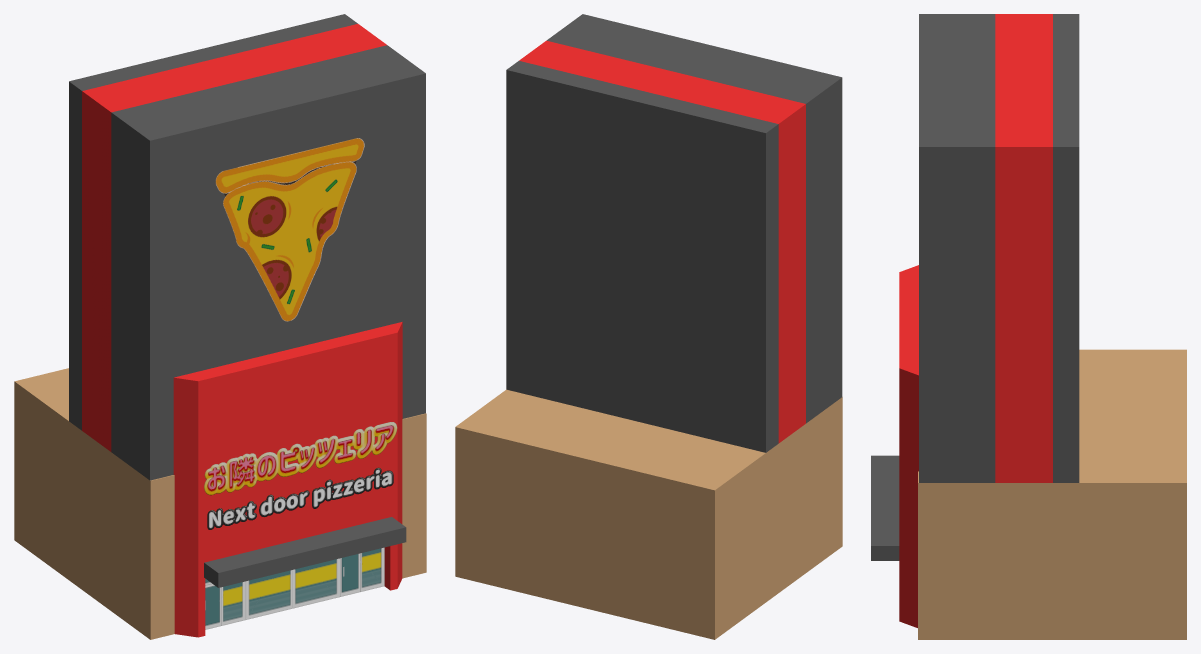
The model's file is Town_Bld_Pizzeria_C.FBX.
3 renders of one model, left to right at view 1: azimuth 30°, elevation 25°; view 2: azimuth 150°, elevation 25°; view 3: azimuth 270°, elevation 25°, orthographic. The views are drawn at different scales.
Parts seen in each view (by area): view 1: Town_Bld_Pizzeria_C; view 2: Town_Bld_Pizzeria_C; view 3: Town_Bld_Pizzeria_C.
Boxes of the visible parts, bbox=[...] form: Town_Bld_Pizzeria_C: bbox=[14, 14, 426, 639]; Town_Bld_Pizzeria_C: bbox=[455, 14, 842, 639]; Town_Bld_Pizzeria_C: bbox=[871, 14, 1186, 639].
Bounding box in the file's own units: 768 × 1326 × 770.
